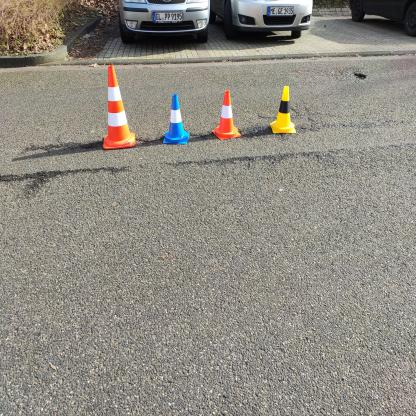Cones_small_blue: (160, 89, 192, 147)
Cones_small_orange: (211, 89, 243, 140), (212, 90, 244, 139), (278, 103, 284, 118)
